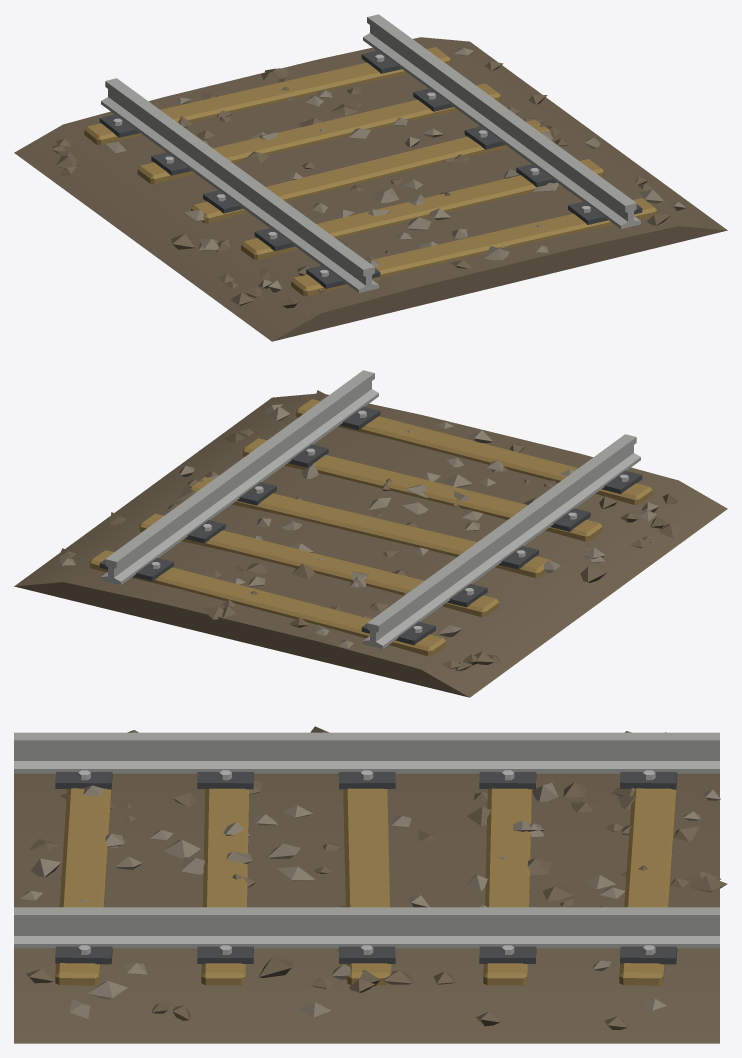
Rendered from legacy-straight-rail.glb.
3 views of the same model, one above another, from view 1: azimuth 30°, elevation 25°; view 2: azimuth 150°, elevation 25°; view 3: azimuth 270°, elevation 25° (orthographic). The views are drawn at different scales.
Parts seen in each view (by area): view 1: body; view 2: body; view 3: body.
Part boxes in pixels (x1,y1,x2,y2): body: [14, 14, 727, 341]; body: [14, 370, 727, 697]; body: [14, 726, 727, 1043].
Bounding box in the file's own units: 2.04 × 0.2158 × 2.02.
